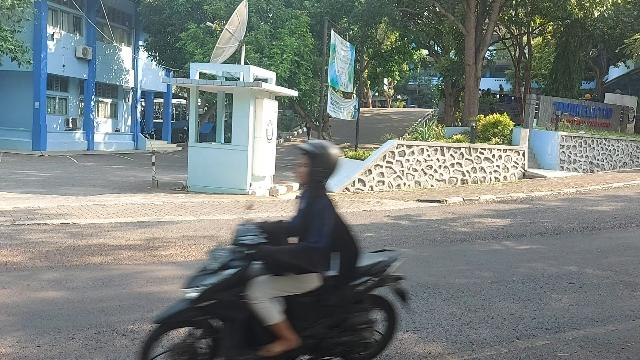helm: (296, 142, 341, 187)
motor: (142, 220, 412, 360)
